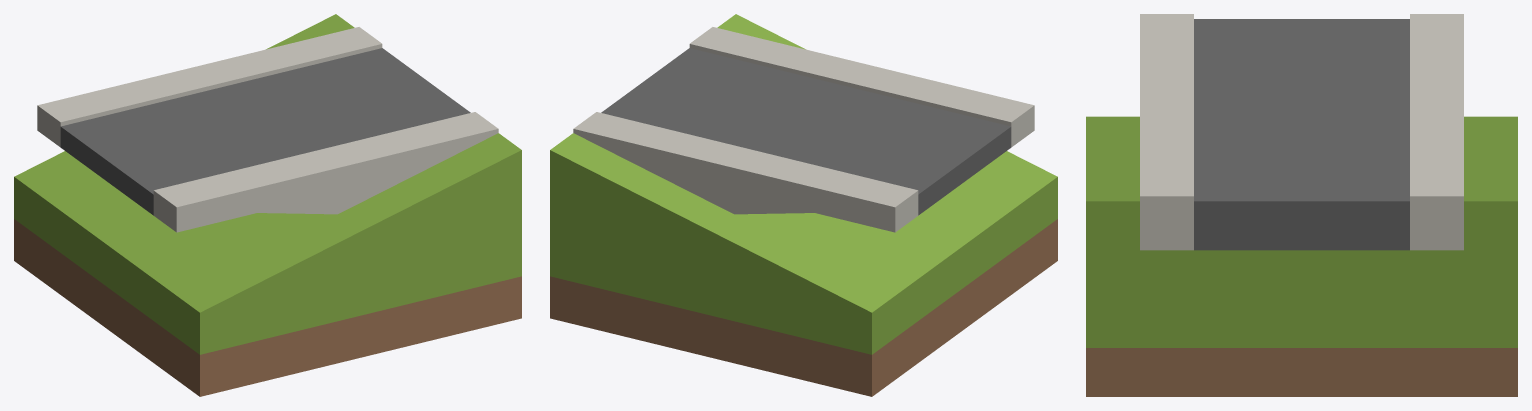
Rendered from road-bridge-hill.obj.
The picture shows the model from 3 angles, left to right: view 1: azimuth 30°, elevation 25°; view 2: azimuth 150°, elevation 25°; view 3: azimuth 270°, elevation 25°; orthographic projection. The views are drawn at different scales.
Parts seen in each view (by area): view 1: road-bridge-hill_Cube.018; view 2: road-bridge-hill_Cube.018; view 3: road-bridge-hill_Cube.018.
Part boxes in pixels (<box>): road-bridge-hill_Cube.018: <box>14,14,521,396</box>; road-bridge-hill_Cube.018: <box>550,14,1057,396</box>; road-bridge-hill_Cube.018: <box>1086,14,1517,396</box>.
Bounding box in the file's own units: 8 × 4.1 × 8.
1 material, 1 textured.
